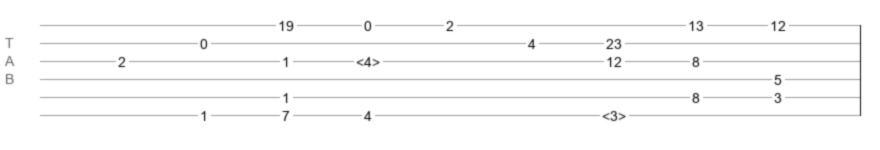0: (200, 36, 208, 46), (364, 18, 372, 28)
1: (200, 108, 208, 118), (282, 54, 290, 64), (282, 90, 290, 100)
12: (606, 54, 622, 64), (770, 18, 786, 28)
13: (688, 18, 704, 28)
19: (278, 18, 294, 28)
2: (118, 54, 126, 64), (446, 18, 454, 28)
23: (606, 36, 622, 46)
3: (774, 90, 782, 100)
4: (364, 108, 372, 118), (528, 36, 536, 46)
5: (774, 72, 782, 82)
7: (282, 108, 290, 118)
8: (692, 90, 700, 100), (692, 54, 700, 64)
harmonic: (356, 54, 380, 64), (602, 108, 626, 118)
